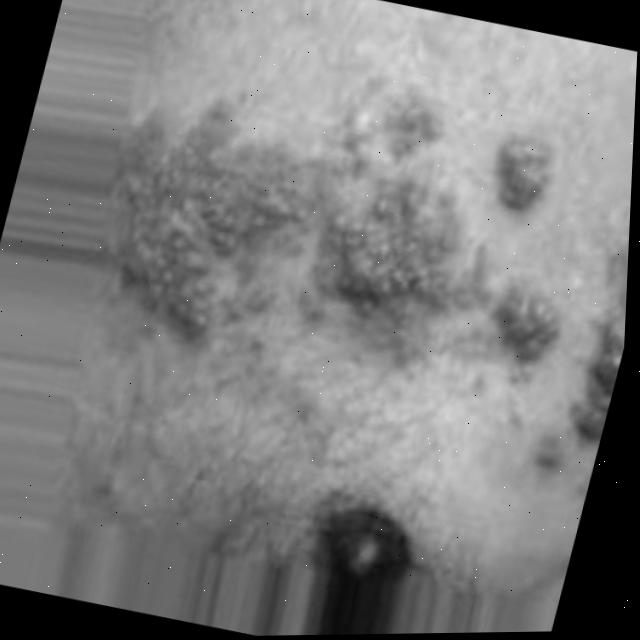Shingles: (78, 44, 476, 371), (429, 117, 634, 466)
